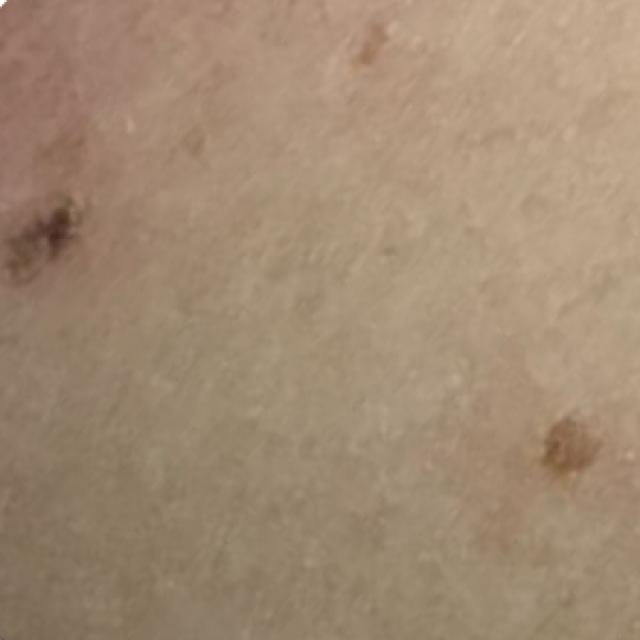wart: (0, 190, 83, 292), (540, 408, 608, 498)
